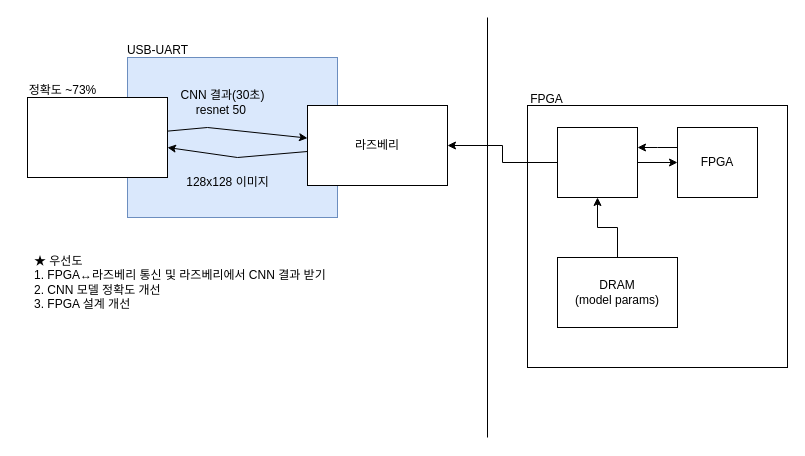
This 805x456 diagram has some shape labels left out. The box of each missing label's shape, as (x1, y1, x2, y2) in pixels:
CPU: (556, 126, 638, 198)
FPGA (학부생 때 사용한 코드): (26, 96, 168, 178)
